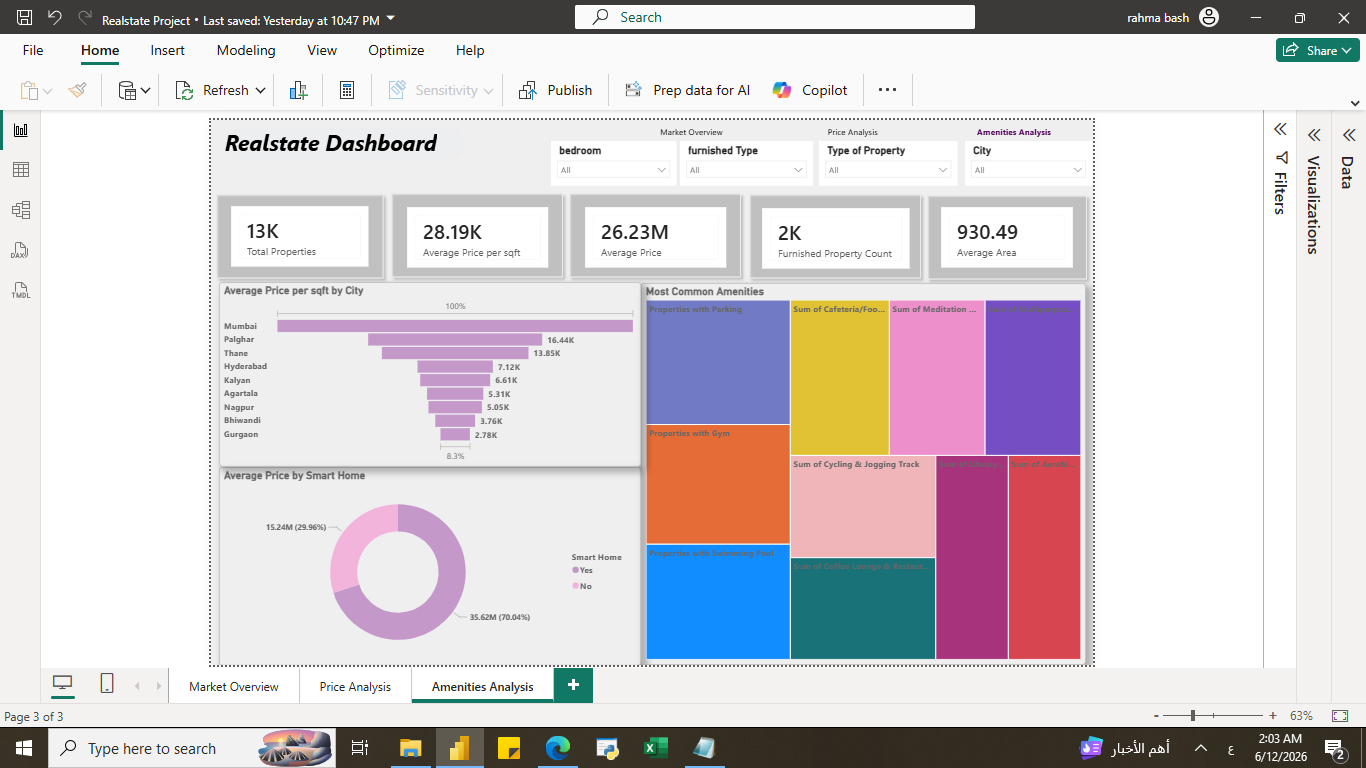

This screenshot's page, from the dashboard's own definition file:
{"tool":"powerbi","page":{"name":"  Property Features","canvas":[1400,865],"ordinal":2},"visuals":[{"type":"shape","box":[12,0,393.8,70.2],"z":0},{"type":"shape","box":[277.7,107.3,289.3,150.7],"z":0,"group":"g4"},{"type":"group","id":"g1","title":"Group 1","box":[560.5,107.3,289.3,150.7],"z":0,"group":"g7"},{"type":"shape","box":[560.5,107.3,289.3,150.7],"z":0,"group":"g1"},{"type":"shape","box":[0,109,282.5,150.7],"z":0,"group":"g3"},{"type":"shape","box":[846.9,109.1,289.3,150.7],"z":0,"group":"g2"},{"type":"shape","box":[1129.2,110.7,270.5,150.7],"z":0,"group":"g5"},{"type":"slicer","fields":{"Values":["properties.City"]},"box":[1197.2,32.9,202.4,70.9],"z":1000},{"type":"group","id":"g2","title":"Group 1","box":[846.9,109.1,289.3,150.7],"z":1000,"group":"g7"},{"type":"cardVisual","fields":{"Data":["Table.Total"]},"box":[26.8,131.3,228.8,106.1],"z":1000,"group":"g3"},{"type":"cardVisual","fields":{"Data":["Table.Average Price per sqft"]},"box":[306.6,132.7,234.4,106.1],"z":1000,"group":"g4"},{"type":"cardVisual","fields":{"Data":["Table.Average Price"]},"box":[589.4,132.7,234.4,106.1],"z":1000,"group":"g1"},{"type":"cardVisual","fields":{"Data":["Table.Average Area"]},"box":[1154.9,133,219.1,106.1],"z":1000,"group":"g5"},{"type":"cardVisual","fields":{"Data":["Table.Furnished Property Count"]},"box":[870.4,134.5,244.8,106.1],"z":1000,"group":"g2"},{"type":"slicer","fields":{"Values":["properties.Type of Property"]},"box":[965.3,32.9,219.7,70.9],"z":2000},{"type":"slicer","fields":{"Values":["properties.furnished Type"]},"box":[743.9,32.9,211.1,70.9],"z":3000},{"type":"slicer","fields":{"Values":["properties.bedroom"]},"box":[539.8,32.9,198.9,70.9],"z":4000},{"type":"group","id":"g3","title":"Group 1","box":[0,109,282.5,150.7],"z":5000,"group":"g6"},{"type":"donutChart","fields":{"Y":["Table.Average Price"],"Category":["properties.Smart Home"]},"box":[12.6,550.5,670,314.5],"z":5000},{"type":"group","id":"g4","title":"Group 1","box":[277.7,107.3,289.3,150.7],"z":6000,"group":"g6"},{"type":"treemap","title":"Most Common Amenities","fields":{"Values":["Table.Properties with Swimming Pool","Table.Properties with Parking","Table.Properties with Gym","Sum(Amenities.Library And Business Centre)","Sum(Amenities.Meditation Area)","Sum(Amenities.Multipurpose Courts)","Sum(Amenities.Cafeteria/Food Court)","Sum(Amenities.Aerobics Room)","Sum(Amenities.Coffee Lounge & Restaurants)","Sum(Amenities.Cycling & Jogging Track)"]},"box":[682.6,259.5,706.2,605.5],"z":6000},{"type":"group","id":"g5","title":"Group 1","box":[1129.2,110.7,270.5,150.7],"z":7000,"group":"g6"},{"type":"funnel","fields":{"Category":["properties.City"],"Y":["Table.Average Price per sqft"]},"box":[12.6,257.9,670,292.5],"z":7000},{"type":"group","id":"g6","title":"Group 2","box":[0,107.3,1399.6,154],"z":8000},{"type":"group","id":"g7","title":"Group 3","box":[560.5,107.3,576.1,152.2],"z":10000},{"type":"pageNavigator","box":[640.1,0,759.5,36.3],"z":10001}]}

Visuals, with their boxes on the page's 1400x865 design canvas (x1, y1, x2, y2). These are canvas units, not pixel positions in the 1366x768 screenshot, which may show the page scaled, cropped or inside an application window:
shape: (12,0,406,70)
shape: (278,107,567,258)
"Group 1" group: (560,107,850,258)
shape: (560,107,850,258)
shape: (0,109,282,260)
shape: (847,109,1136,260)
shape: (1129,111,1400,261)
slicer - properties.City: (1197,33,1400,104)
"Group 1" group: (847,109,1136,260)
cardVisual - Table.Total: (27,131,256,237)
cardVisual - Table.Average Price per sqft: (307,133,541,239)
cardVisual - Table.Average Price: (589,133,824,239)
cardVisual - Table.Average Area: (1155,133,1374,239)
cardVisual - Table.Furnished Property Count: (870,134,1115,241)
slicer - properties.Type of Property: (965,33,1185,104)
slicer - properties.furnished Type: (744,33,955,104)
slicer - properties.bedroom: (540,33,739,104)
"Group 1" group: (0,109,282,260)
donutChart - Table.Average Price x properties.Smart Home: (13,550,683,865)
"Group 1" group: (278,107,567,258)
"Most Common Amenities" treemap: (683,260,1389,865)
"Group 1" group: (1129,111,1400,261)
funnel - properties.City x Table.Average Price per sqft: (13,258,683,550)
"Group 2" group: (0,107,1400,261)
"Group 3" group: (560,107,1137,260)
pageNavigator: (640,0,1400,36)
